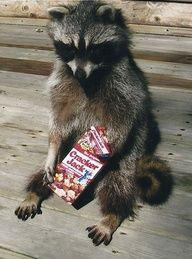raccoon: (7, 0, 182, 259)
